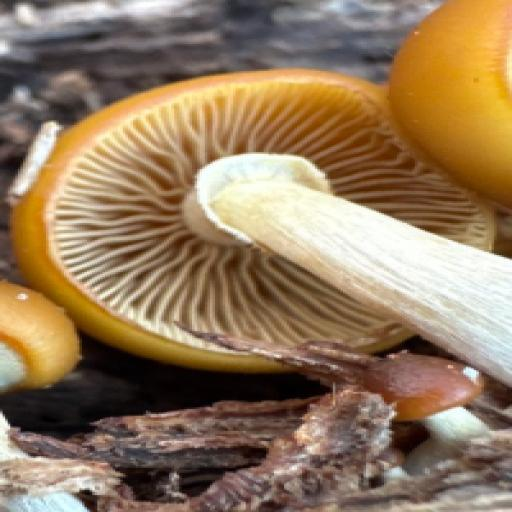mushroom: (10, 2, 512, 408)
